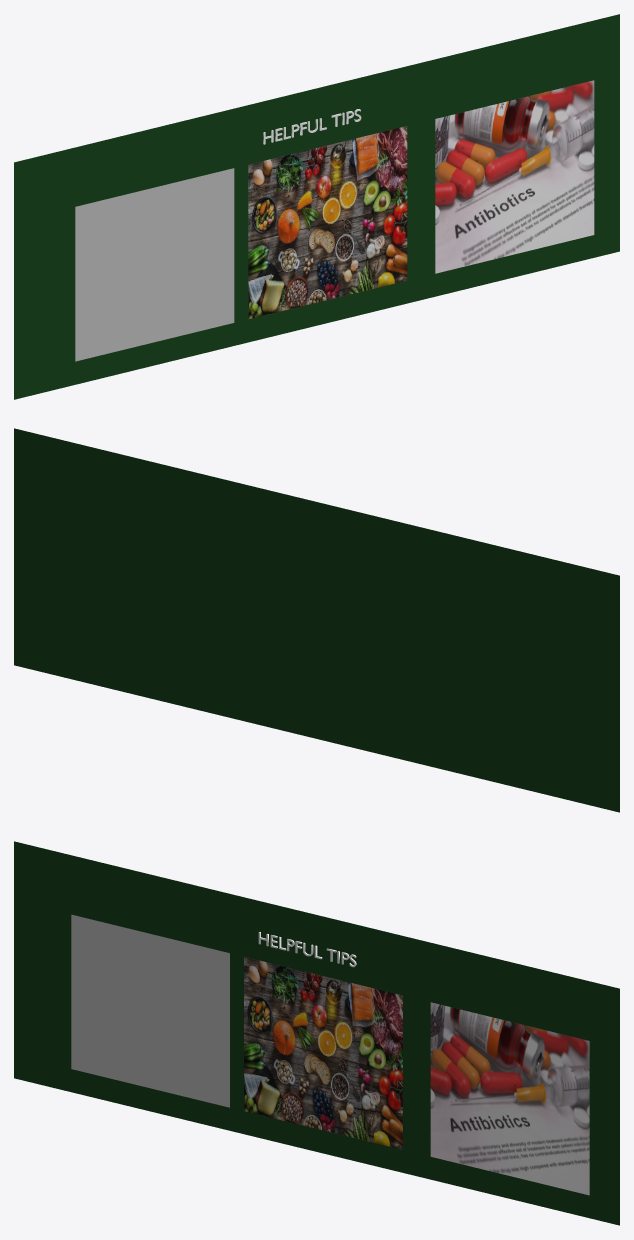
File: tips.gltf
The picture shows the model from 3 angles, top to bottom: view 1: azimuth 30°, elevation 25°; view 2: azimuth 150°, elevation 25°; view 3: azimuth 330°, elevation 25°; orthographic projection.
Parts seen in each view (by area): view 1: Plane.013, Plane.001, Plane.002, Plane, Text.008; view 2: Plane.013; view 3: Plane.013, Plane.002, Plane.001, Plane, Text.008.
Boxes of the visible parts, left/top/right/bottom form: Plane.013: left=14, top=14, right=619, bottom=399; Plane.001: left=248, top=126, right=407, bottom=319; Plane.002: left=435, top=80, right=594, bottom=273; Plane: left=75, top=168, right=234, bottom=361; Text.008: left=263, top=109, right=361, bottom=144; Plane.013: left=14, top=428, right=619, bottom=812; Plane.013: left=14, top=841, right=619, bottom=1225; Plane.002: left=430, top=1002, right=589, bottom=1195; Plane.001: left=244, top=956, right=402, bottom=1149; Plane: left=71, top=914, right=229, bottom=1107; Text.008: left=258, top=932, right=356, bottom=967.
Size of the model in its own units: 15.94 by 5.96 by 0.1403.
